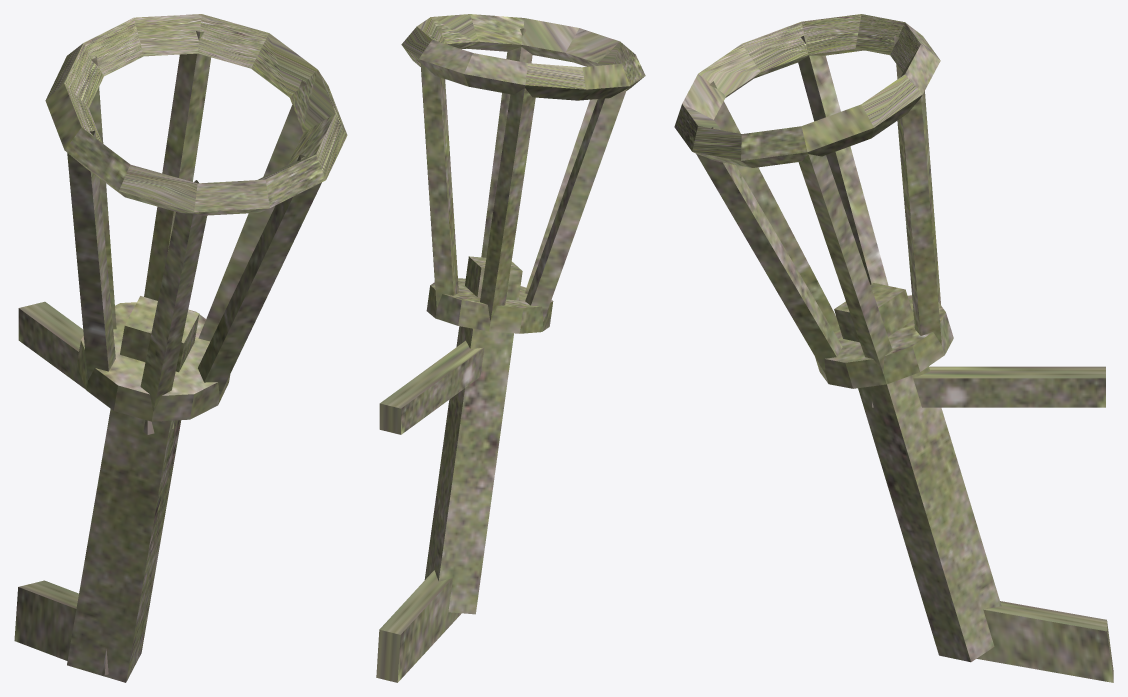
The model's file is SM_LDFest_04_SHADOW_Torch.fbx.
The picture shows the model from 3 angles, left to right: view 1: azimuth 30°, elevation 25°; view 2: azimuth 150°, elevation 25°; view 3: azimuth 270°, elevation 25°; orthographic projection. The views are drawn at different scales.
Visible parts, largest first — view 1: SM_LDFest_04_SHADOW_Torch; view 2: SM_LDFest_04_SHADOW_Torch; view 3: SM_LDFest_04_SHADOW_Torch.
Part boxes in pixels (left/top/right/bottom): SM_LDFest_04_SHADOW_Torch: left=14, top=14, right=347, bottom=682; SM_LDFest_04_SHADOW_Torch: left=376, top=14, right=645, bottom=682; SM_LDFest_04_SHADOW_Torch: left=674, top=14, right=1113, bottom=682.
Size of the model in its own units: 56.93 by 144 by 90.51.
